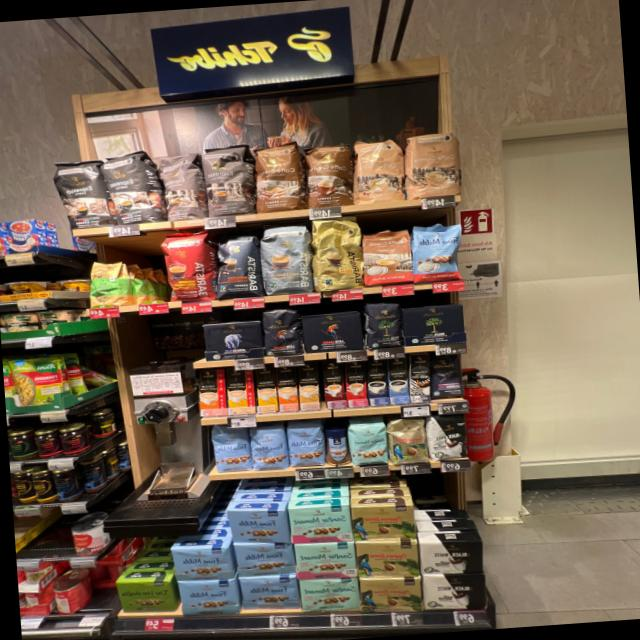AB Gemahlen: (201, 319, 263, 361)
Athiopien Bohne: (86, 258, 129, 308)
BM Bohne: (362, 301, 402, 349)
BM Gemahlen: (400, 302, 468, 346)
BW Bohne: (425, 416, 469, 462)
BW Gemahlen: (421, 572, 489, 612), (418, 540, 487, 576)
Barista CB: (308, 213, 364, 290)
Barista CC: (258, 222, 314, 296)
Barista Espresso: (212, 230, 264, 300)
Barista Kolumbien: (159, 230, 214, 304)
C Fino Bohne: (428, 353, 462, 400)
CC Mild: (403, 128, 462, 200), (349, 136, 406, 203)
CC Vollmundig: (361, 227, 413, 285)
CC Vollmundig 36 Pads: (252, 137, 306, 213), (302, 142, 355, 208)
Colombia BB Bohne: (386, 417, 428, 465)
Colombia BB Gemahlen: (350, 504, 416, 543), (358, 576, 424, 614), (355, 542, 419, 580)
Espresso Aromatisch: (202, 142, 254, 216), (158, 150, 208, 222)
Espresso Kraftig: (97, 146, 159, 227), (51, 153, 108, 231)
FM 36 Pads: (409, 220, 466, 282)
FM Bohne: (210, 427, 251, 473), (250, 426, 288, 471), (286, 424, 324, 468)
FM Gemahlen: (178, 577, 238, 616), (239, 574, 299, 612), (225, 509, 290, 543), (232, 542, 295, 577), (170, 546, 228, 580)
FM Instant: (322, 425, 350, 466)
Herzhatfe Mundig: (114, 578, 176, 616)
LG Bohne: (260, 308, 300, 357)
LG Gemahlen: (300, 309, 364, 353)
SM Bohne: (347, 421, 388, 466)
SM Gemahlen: (287, 504, 351, 544), (295, 542, 355, 580), (298, 578, 360, 612)
Simo CCMild: (224, 368, 256, 416)
Simo CCMild bigpack: (254, 367, 277, 412)
Simo CCVollmundig: (196, 367, 226, 416)
Simo CCVollmundig bigpack: (276, 365, 298, 412)
Simo Decaff: (295, 363, 320, 410)
Simo Es Brazil: (344, 360, 368, 407)
Simo Es Caramel: (322, 361, 347, 409)
Simo Es Elegant: (410, 353, 430, 402)
Simo Es Kraft: (365, 358, 389, 406)
Simo Es Vanilla: (386, 357, 409, 404)
